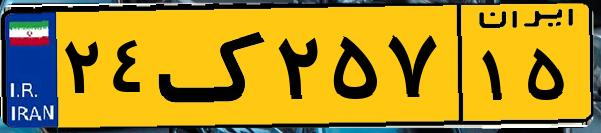1: (475, 38, 525, 113)
2: (270, 28, 330, 110), (57, 26, 110, 100)
4: (110, 28, 158, 98)
5: (330, 28, 385, 110), (525, 38, 570, 115)
7: (385, 28, 445, 110)
ک: (158, 12, 270, 120)
